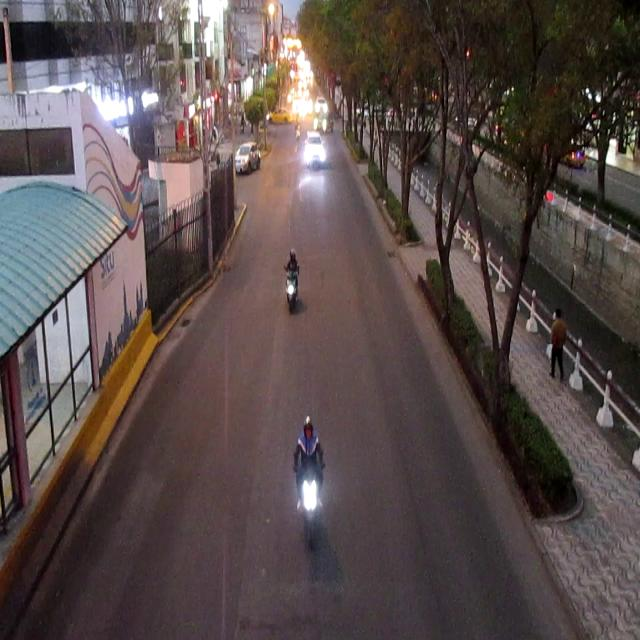MOTORCYCLE: (292, 413, 325, 551), (283, 250, 301, 310)
SUV: (236, 145, 261, 175), (306, 133, 325, 168)
